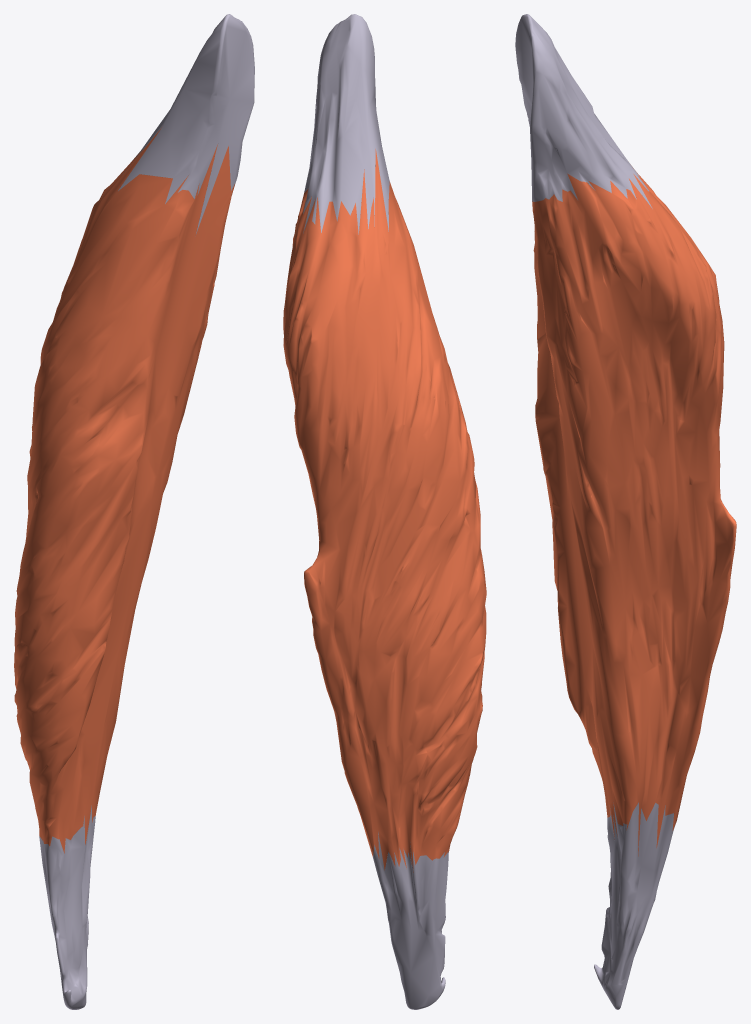
File: Lateral_head_of_triceps_brachii_muscle.r_Generated_Mesh_From_X3.glb
The picture shows the model from 3 angles, left to right: view 1: azimuth 30°, elevation 25°; view 2: azimuth 150°, elevation 25°; view 3: azimuth 270°, elevation 25°; orthographic projection. The views are drawn at different scales.
Parts seen in each view (by area): view 1: Lateral_head_of_triceps_brachii_muscle.r_Generated_Mesh_From; view 2: Lateral_head_of_triceps_brachii_muscle.r_Generated_Mesh_From; view 3: Lateral_head_of_triceps_brachii_muscle.r_Generated_Mesh_From.
Part boxes in pixels (box(x1,y1,x2,y2)): Lateral_head_of_triceps_brachii_muscle.r_Generated_Mesh_From: box(14, 14, 254, 1009); Lateral_head_of_triceps_brachii_muscle.r_Generated_Mesh_From: box(283, 14, 486, 1009); Lateral_head_of_triceps_brachii_muscle.r_Generated_Mesh_From: box(515, 14, 736, 1009).
Bounding box in the file's own units: 0.0562 × 0.2648 × 0.0507.
